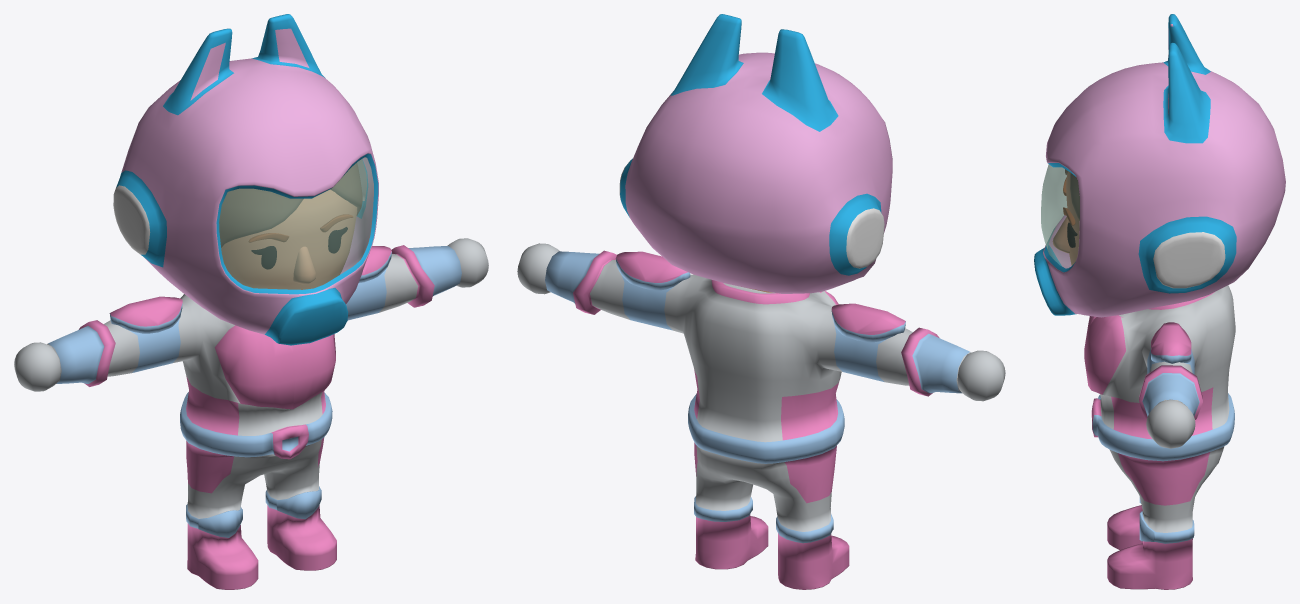
Rendered from 04_HONG_TRANG.fbx.
The picture shows the model from 3 angles, left to right: view 1: azimuth 30°, elevation 25°; view 2: azimuth 150°, elevation 25°; view 3: azimuth 270°, elevation 25°; orthographic projection. The views are drawn at different scales.
Visible parts, largest first — view 1: BODY, MU, KINH, HEAD; view 2: BODY, MU; view 3: MU, BODY, KINH, HEAD.
Boxes of the visible parts, x1,y1,x2,y2 form: BODY: [14, 238, 488, 589]; MU: [113, 14, 378, 345]; KINH: [219, 157, 373, 289]; HEAD: [219, 163, 362, 289]; BODY: [517, 243, 1005, 589]; MU: [619, 14, 892, 293]; MU: [1034, 14, 1285, 317]; BODY: [1084, 285, 1235, 589]; KINH: [1041, 164, 1079, 268]; HEAD: [1052, 169, 1079, 265].
Bounding box in the file's own units: 191 × 207 × 89.69.
